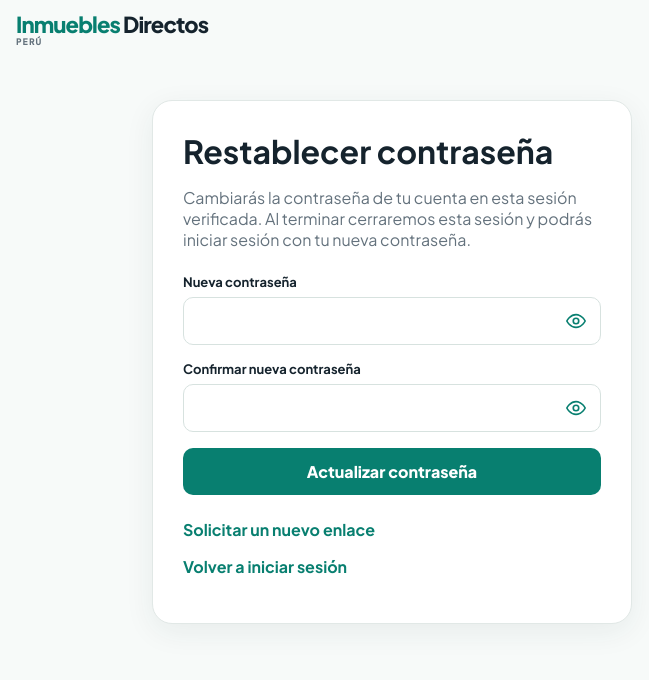
it: verified self password update › rejects mismatch before verifying/updating
Type "fixture-password" into the password field labelled "Nueva contraseña" at (392, 321), box [183,297,601,345]
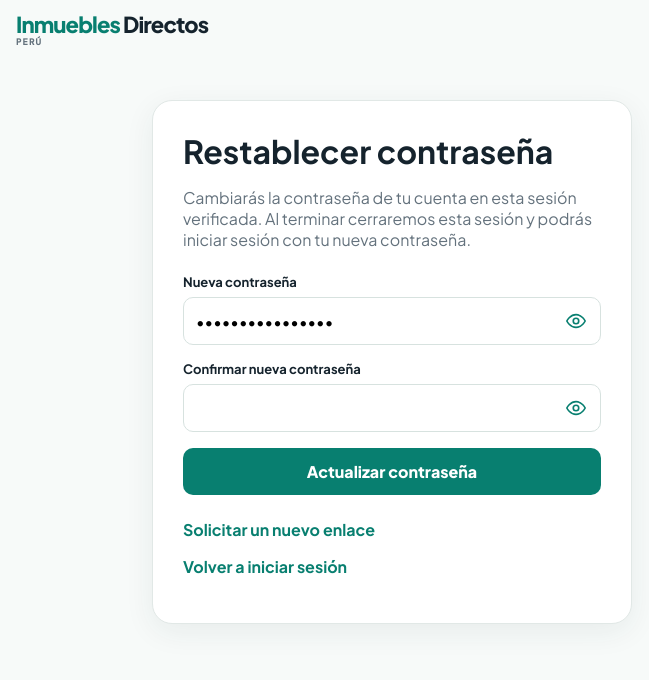
Type "different-password" into the password field labelled "Confirmar nueva contraseña" at (392, 408), box [183,384,601,432]
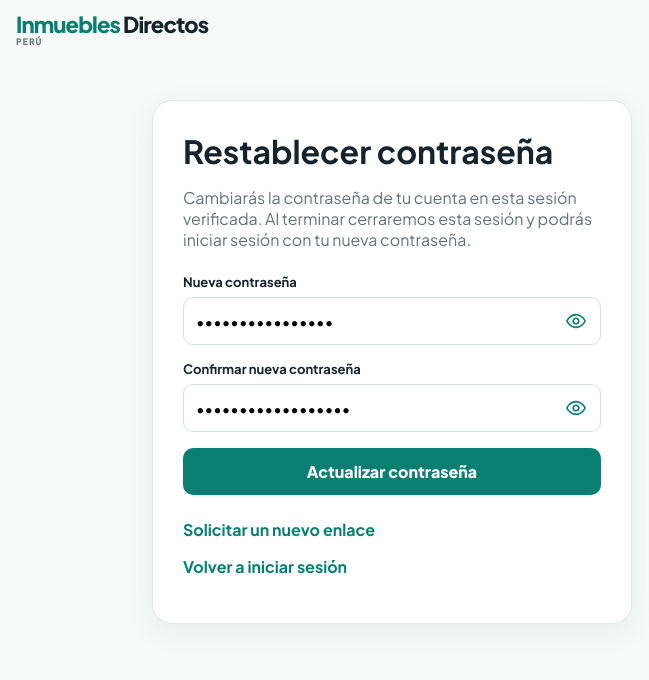
Submit the form labelled "Nueva contraseña", box [183,274,601,495]
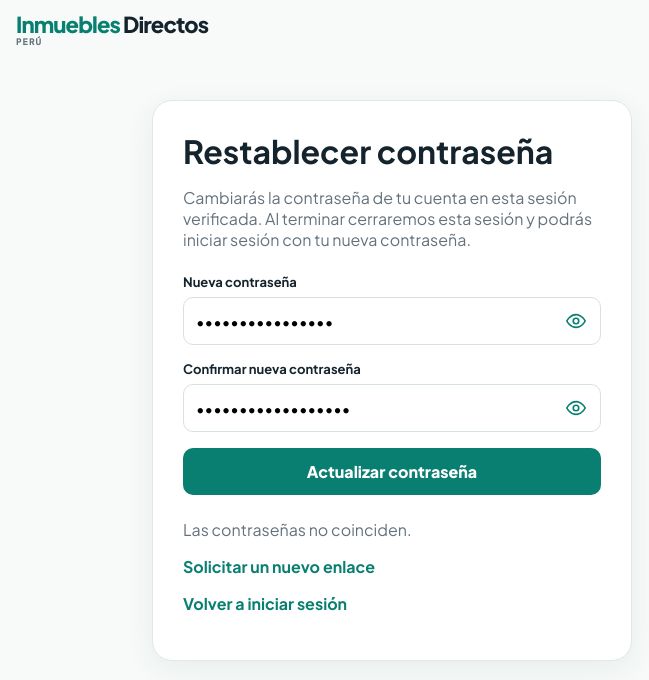
expect the message shows "no coinciden": met, box [183,519,412,540]
